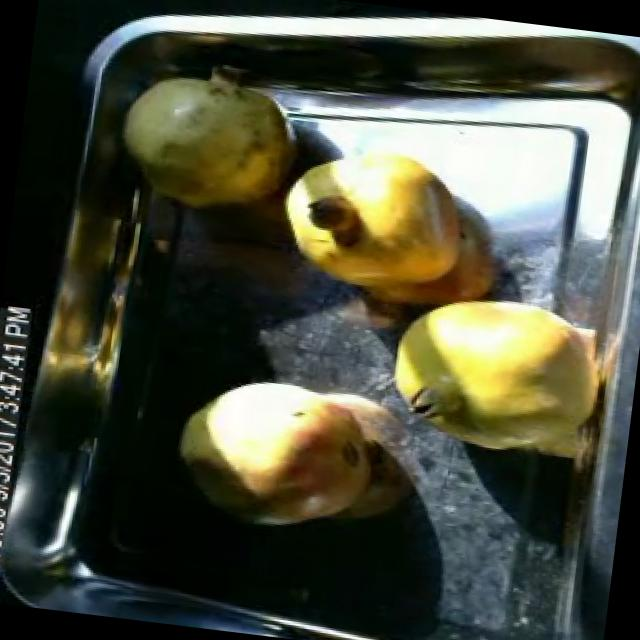fruit: (359, 259, 631, 482), (160, 355, 402, 549), (267, 132, 490, 312), (104, 54, 310, 226)
